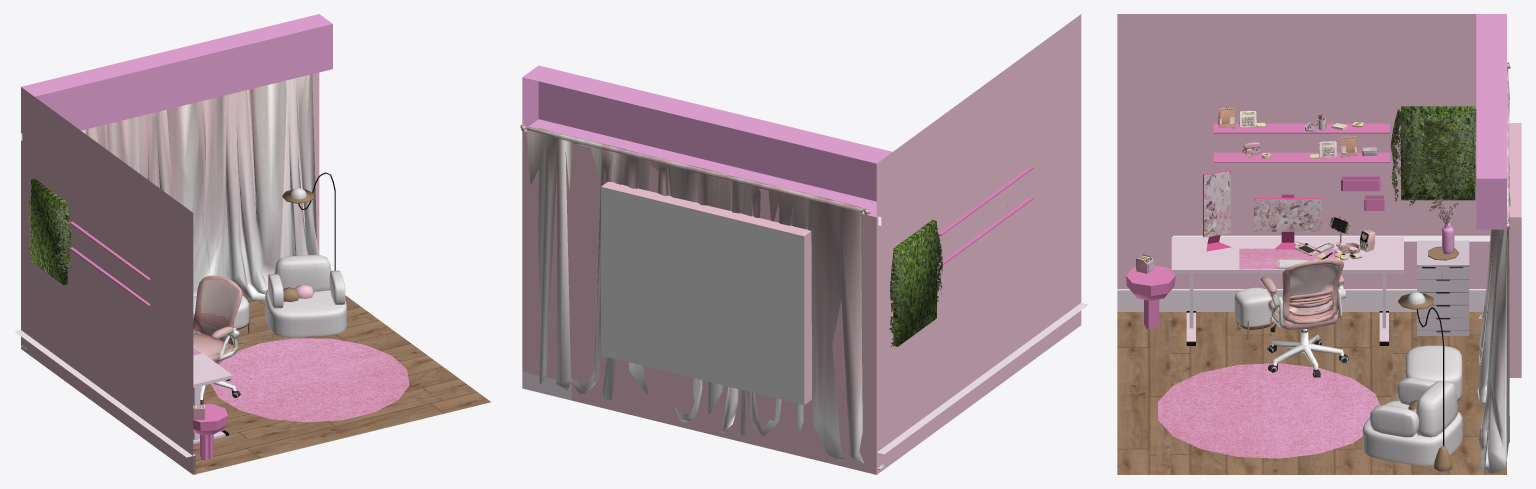
The model's file is рум1.fbx.
The picture shows the model from 3 angles, left to right: view 1: azimuth 30°, elevation 25°; view 2: azimuth 150°, elevation 25°; view 3: azimuth 270°, elevation 25°; orthographic projection. The views are drawn at different scales.
Visible parts, largest first — view 1: Cube, node_0, Cylinder, Cube.005, node_0.001, Cube.022, Cube.014, Cylinder.003, Cube.001, Cube.004, Cube.009; view 2: Cube, Cube.001, node_0, Cube.022, Cube.014; view 3: Cube, Cylinder, Cube.022, node_0, Cube.005, node_0.001, Cube.004, Cube.006, Cube.014, Cube.001, node_0.003, Cube.010 (+12 smaller).
Part boxes in pixels (x1,y1,x2,y2): Cube: (21,14,491,474); node_0: (21,74,319,349); Cylinder: (211,338,409,422); Cube.005: (265,255,346,337); node_0.001: (193,275,242,404); Cube.022: (25,178,71,285); Cube.014: (14,330,195,474); Cylinder.003: (193,404,227,460); Cube.001: (312,72,319,253); Cube.004: (193,346,232,387); Cube.009: (282,172,335,270); Cube: (522,14,1081,474); Cube.001: (522,131,876,474); node_0: (520,124,885,469); Cube.022: (889,220,943,346); Cube.014: (877,303,1088,454); Cube: (1117,14,1506,474); Cylinder: (1158,363,1379,458); Cube.022: (1390,106,1476,210); node_0: (1477,62,1510,473); Cube.005: (1362,377,1462,465); node_0.001: (1260,259,1348,377); Cube.004: (1171,237,1403,273); Cube.006: (1417,240,1469,335); Cube.014: (1117,289,1486,311); Cube.001: (1509,123,1521,377); node_0.003: (1136,107,1377,273); Cube.010: (1254,198,1321,231).
Size of the model in its own units: 465 by 377 by 458.
5 materials, 3 textured.
